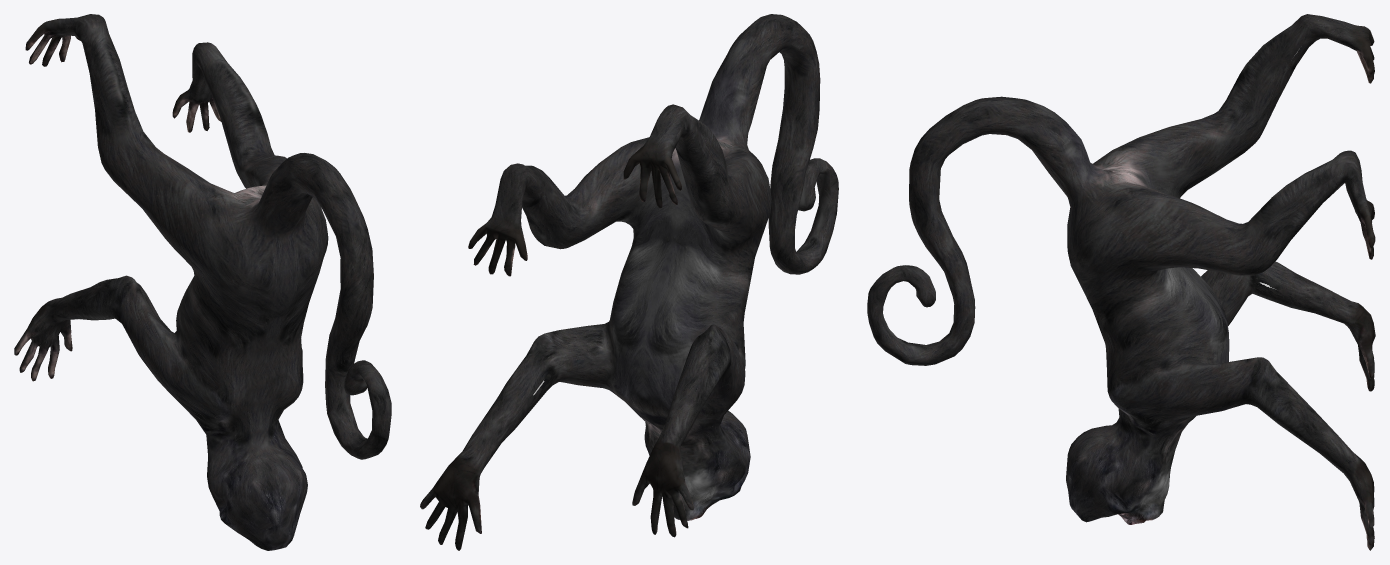
Rendered from spider_monkey_low.glb.
3 views of the same model, side by side, from view 1: azimuth 30°, elevation 25°; view 2: azimuth 150°, elevation 25°; view 3: azimuth 270°, elevation 25° (orthographic). The views are drawn at different scales.
Parts seen in each view (by area): view 1: 12958_Spider_Monkey; view 2: 12958_Spider_Monkey; view 3: 12958_Spider_Monkey.
Boxes of the visible parts, box(x1,y1,x2,y2) form: 12958_Spider_Monkey: box(14, 14, 391, 550); 12958_Spider_Monkey: box(420, 14, 838, 550); 12958_Spider_Monkey: box(867, 14, 1375, 550).
Size of the model in its own units: 52.17 by 90.97 by 88.44.
Materials: 1 (1 with a texture image).
